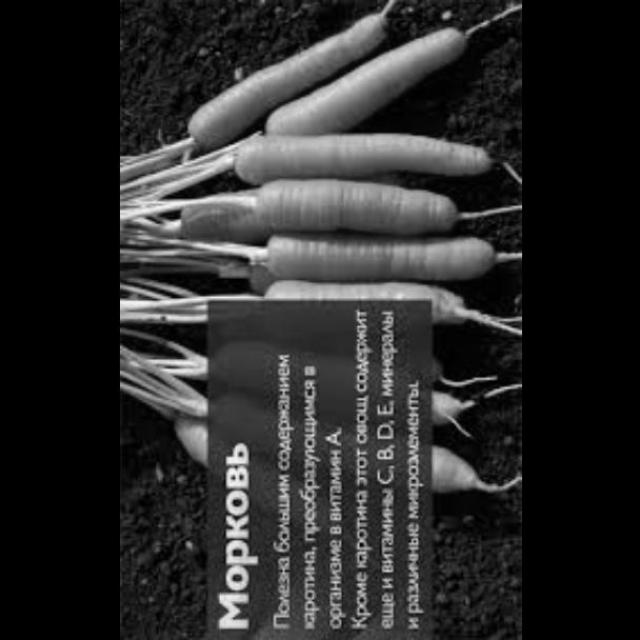ca rot: (175, 3, 412, 153), (252, 11, 496, 150), (219, 112, 514, 190), (229, 167, 504, 237), (242, 227, 520, 289), (246, 280, 508, 333), (164, 185, 261, 249), (160, 393, 213, 476)
